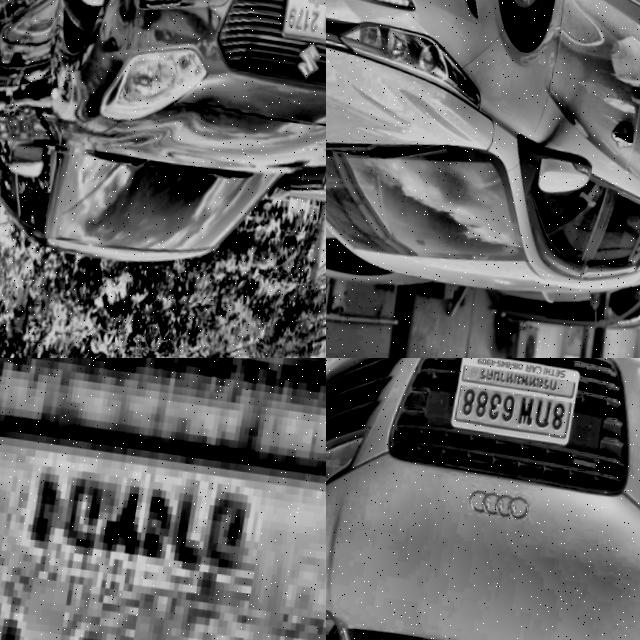license-plate: (0, 358, 326, 640), (448, 358, 585, 443), (282, 0, 326, 39)
